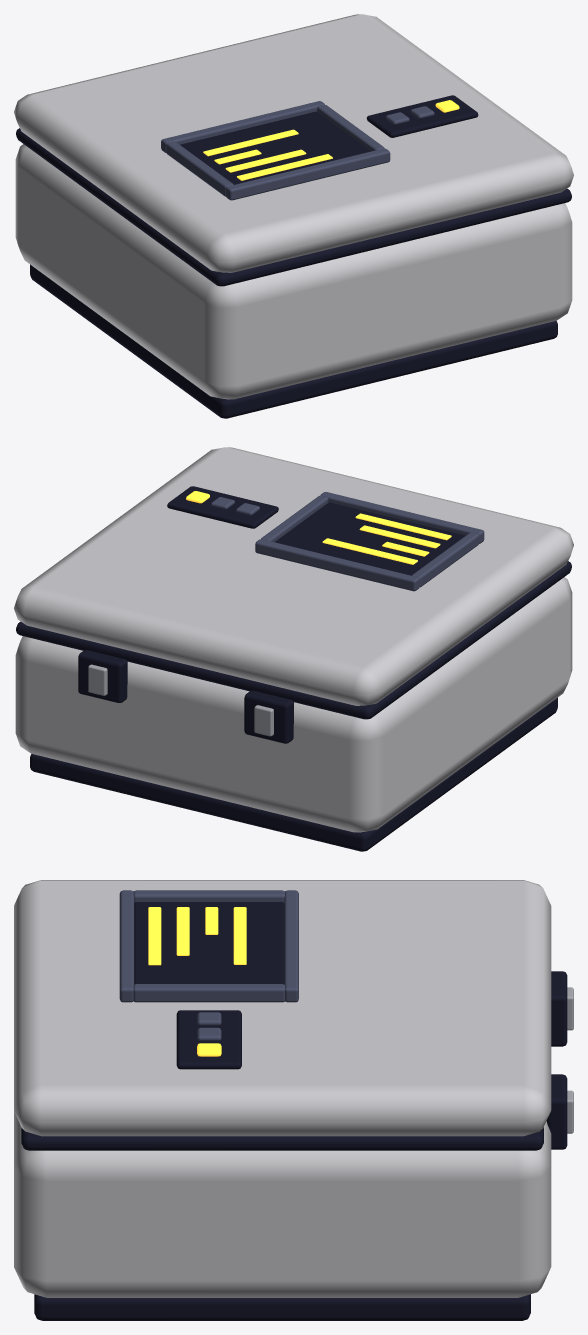
The model's file is roof.small.box.glb.
3 renders of one model, top to bottom at view 1: azimuth 30°, elevation 25°; view 2: azimuth 150°, elevation 25°; view 3: azimuth 270°, elevation 25°, orthographic. The views are drawn at different scales.
Parts seen in each view (by area): view 1: roof.small.box; view 2: roof.small.box; view 3: roof.small.box.
Part boxes in pixels (box(x1,y1,x2,y2)): roof.small.box: box(14, 14, 573, 418); roof.small.box: box(14, 447, 573, 851); roof.small.box: box(14, 880, 573, 1320).
Size of the model in its own units: 0.66 by 0.34 by 0.688.
